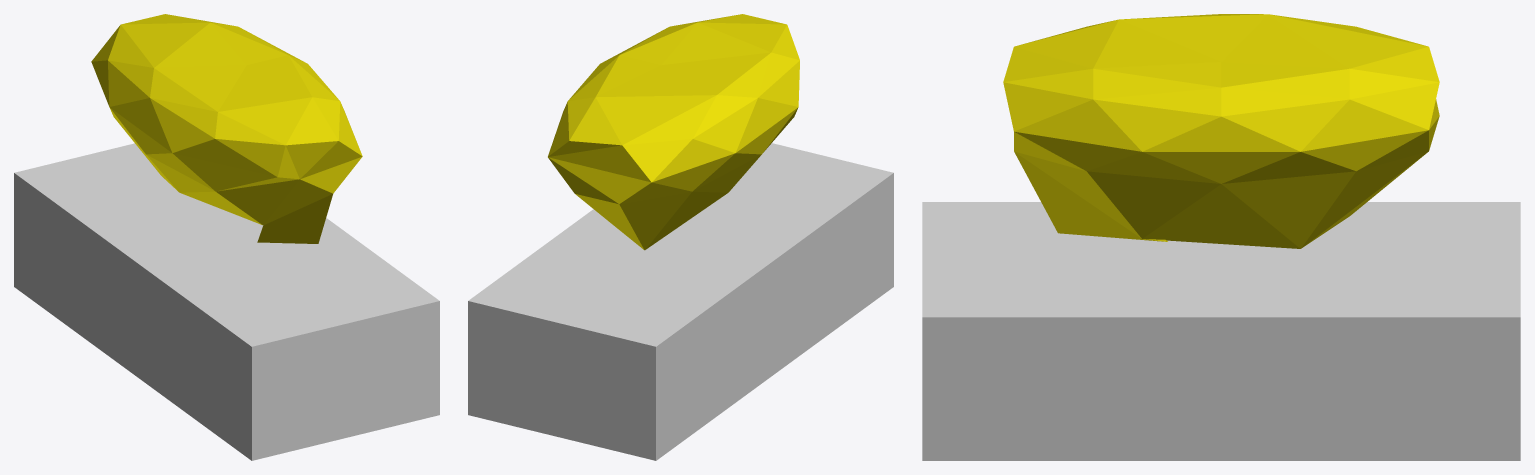
Rendered from level2rock1.fbx.
The picture shows the model from 3 angles, left to right: view 1: azimuth 30°, elevation 25°; view 2: azimuth 150°, elevation 25°; view 3: azimuth 270°, elevation 25°; orthographic projection. The views are drawn at different scales.
Parts seen in each view (by area): view 1: Cube, Icosphere; view 2: Cube, Icosphere; view 3: Cube, Icosphere.
Boxes of the visible parts, box(x1,y1,x2,y2) form: Cube: box(14, 143, 439, 460); Icosphere: box(91, 14, 362, 243); Cube: box(468, 143, 893, 460); Icosphere: box(548, 14, 799, 250); Cube: box(922, 202, 1520, 460); Icosphere: box(1003, 14, 1439, 248).
Bounding box in the file's own units: 345 × 495 × 755.
